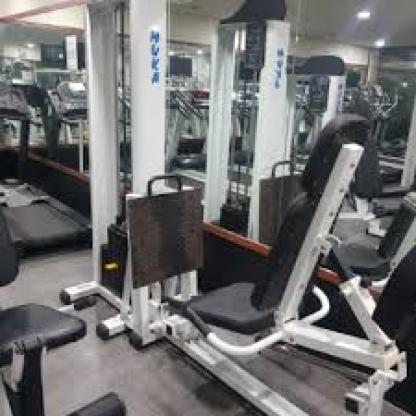leg press: (55, 0, 416, 416)
